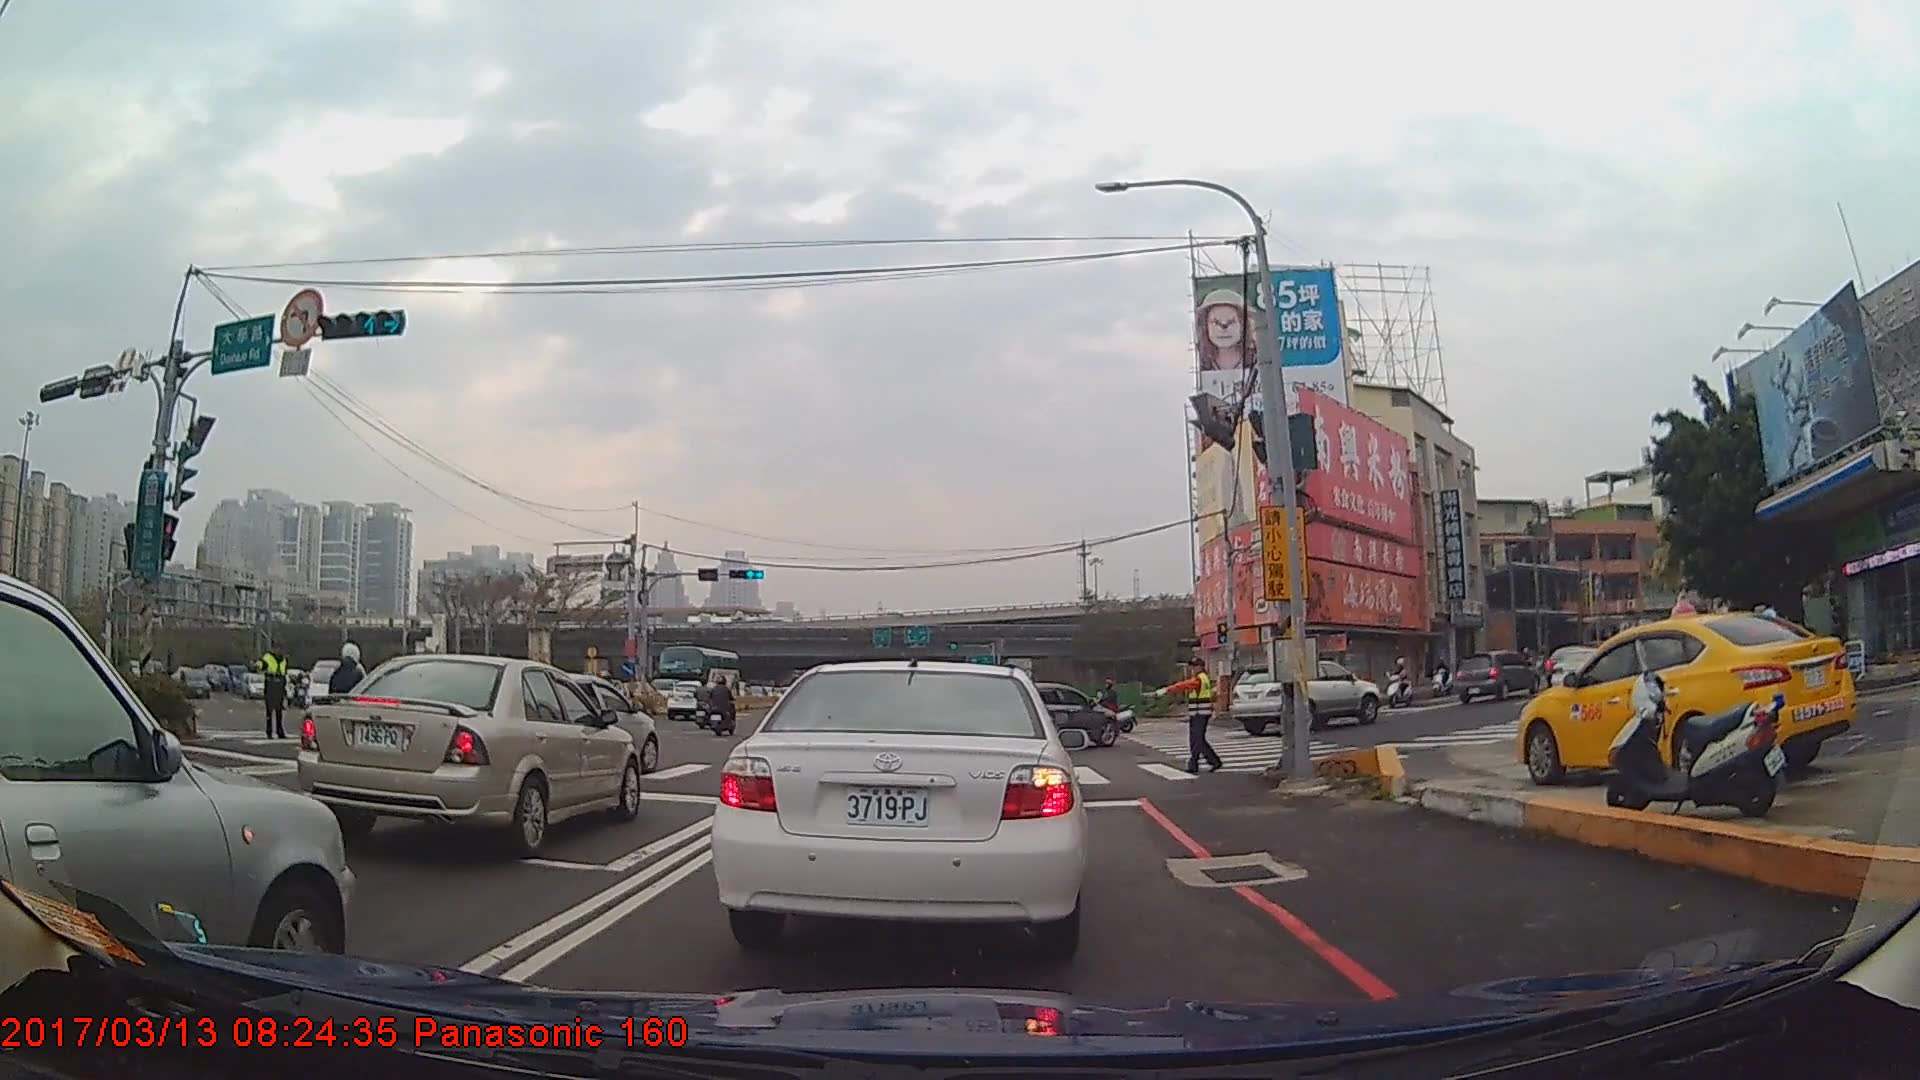pedestrian: (1143, 655, 1220, 776), (251, 639, 294, 742)
rider: (1082, 679, 1137, 734), (708, 676, 738, 735), (1386, 656, 1416, 707), (693, 678, 715, 730), (1432, 658, 1456, 699)
vehicle: (0, 573, 352, 999), (712, 655, 1086, 952), (303, 651, 642, 855), (1512, 607, 1853, 788), (1234, 658, 1382, 736), (990, 681, 1117, 750), (1449, 649, 1536, 704), (657, 644, 739, 700), (666, 676, 724, 722)
